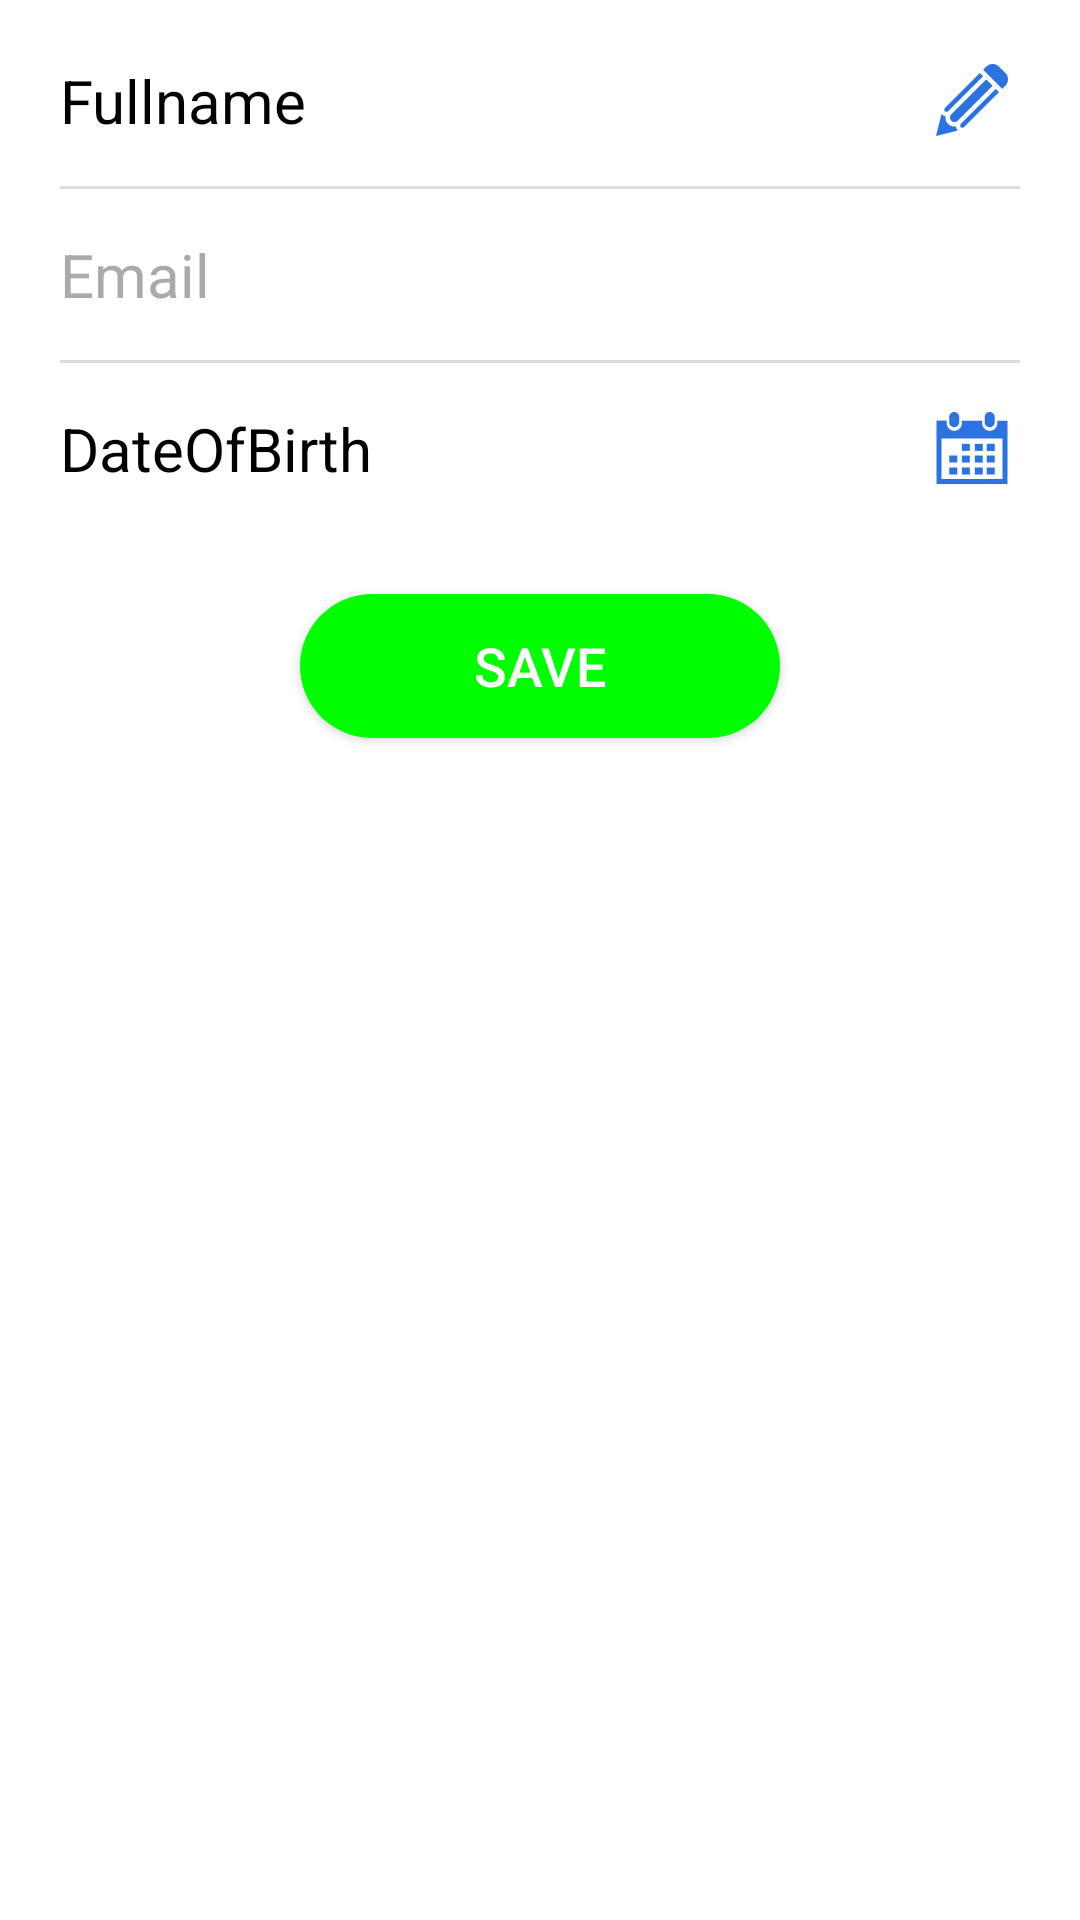

Icon bounding boxes for this 1080×1920 phone screenshot, format {"x1": x1, "y1": y1, "x2": x2, "y2": y2}:
calendar: {"x1": 936, "y1": 412, "x2": 1008, "y2": 484}
edit buttons: {"x1": 936, "y1": 64, "x2": 1008, "y2": 136}
